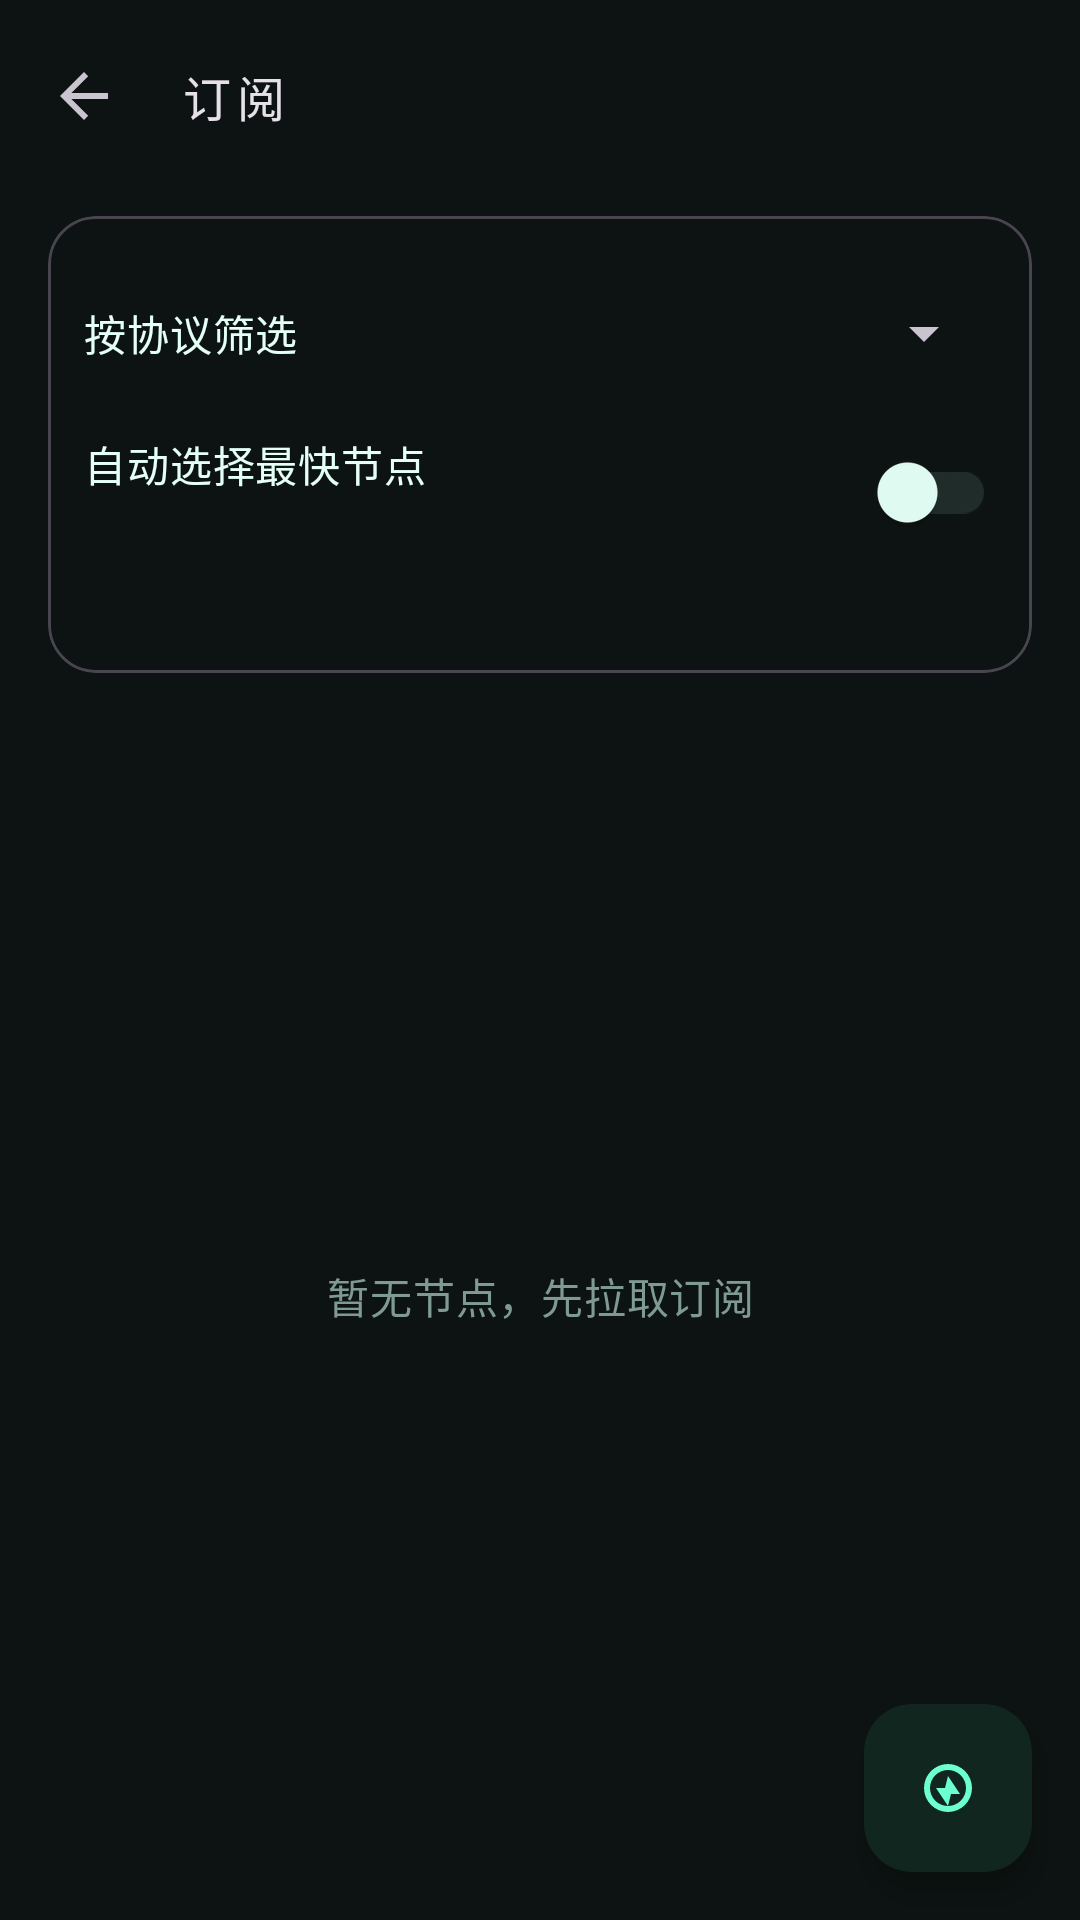

Icon bounding boxes for this 1080px×1920px phone screenshot, format box(x1, y1, x2, y2):
测速全部: box(924, 1764, 972, 1812)
